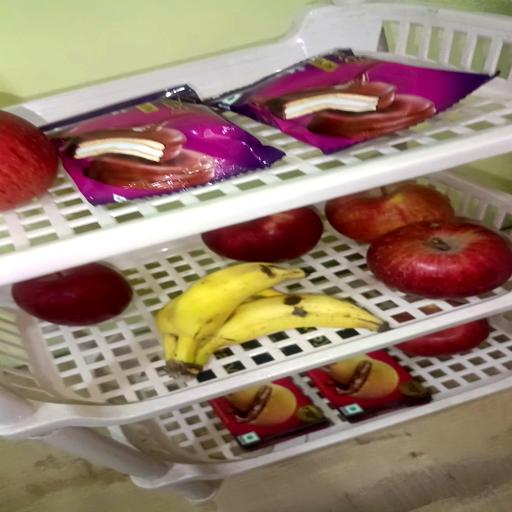Apple: (366, 222, 512, 300), (324, 182, 454, 247), (10, 264, 132, 328), (203, 208, 324, 264), (0, 113, 58, 214), (394, 320, 489, 358)
Choco Fills: (308, 350, 430, 422), (211, 378, 330, 449)
Choco Pie: (39, 82, 281, 206), (212, 49, 490, 154)
